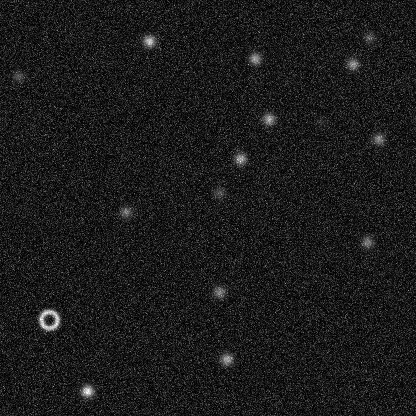Ring: (37, 307, 61, 331)
Spot: (79, 382, 95, 398), (313, 113, 329, 129), (117, 203, 133, 219), (370, 130, 386, 146), (141, 32, 157, 48), (232, 150, 248, 166), (344, 55, 360, 71), (361, 29, 377, 45), (246, 50, 262, 66), (260, 110, 276, 126), (10, 68, 26, 84), (359, 234, 375, 250), (211, 184, 227, 200), (218, 351, 234, 367), (211, 283, 227, 299)
